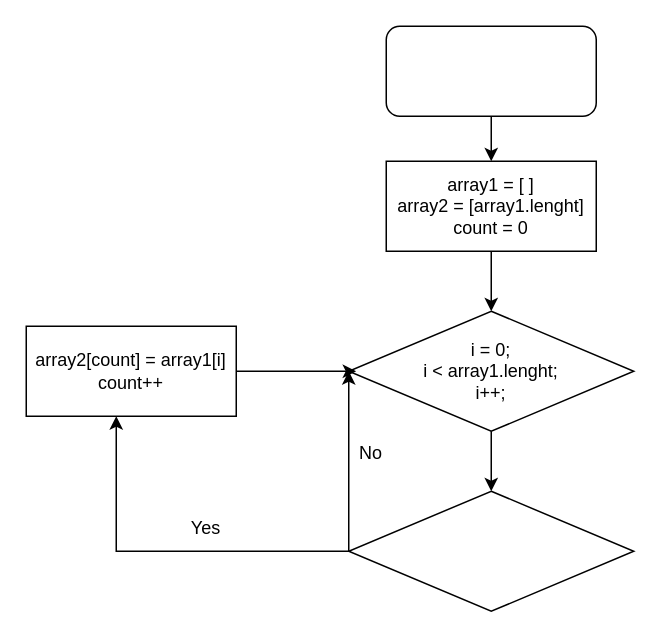
Image size: 660x638. Some labels were removed from this diagram. Here are the shapes that lost their labels. From the top down, the centre of each, then its label:
(x=490, y=70): NewMyArray
(x=490, y=550): array1[i].lenght <= 3
